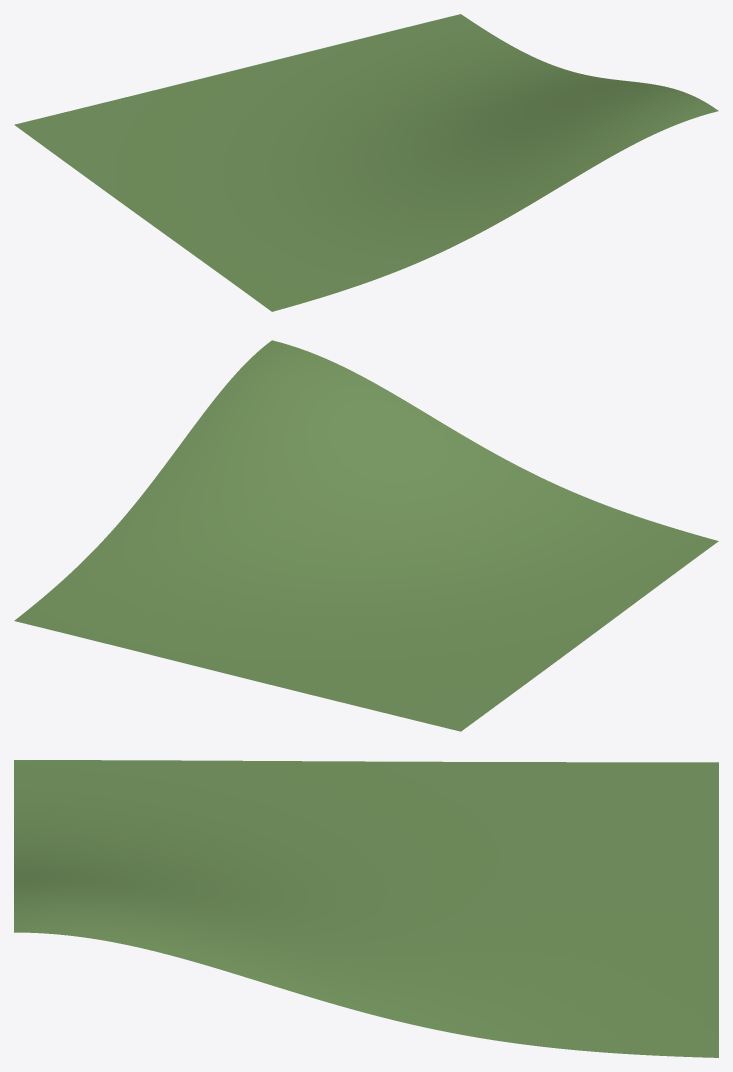
File: example_dem_100m_nw.dae
3 views of the same model, one above another, from view 1: azimuth 30°, elevation 25°; view 2: azimuth 150°, elevation 25°; view 3: azimuth 270°, elevation 25° (orthographic). The views are drawn at different scales.
Parts seen in each view (by area): view 1: terrain; view 2: terrain; view 3: terrain.
Part boxes in pixels (x1,y1,x2,y2): terrain: (14,14,718,311); terrain: (14,340,718,731); terrain: (14,760,718,1057).
Size of the model in its own units: 50 by 50 by 10.
